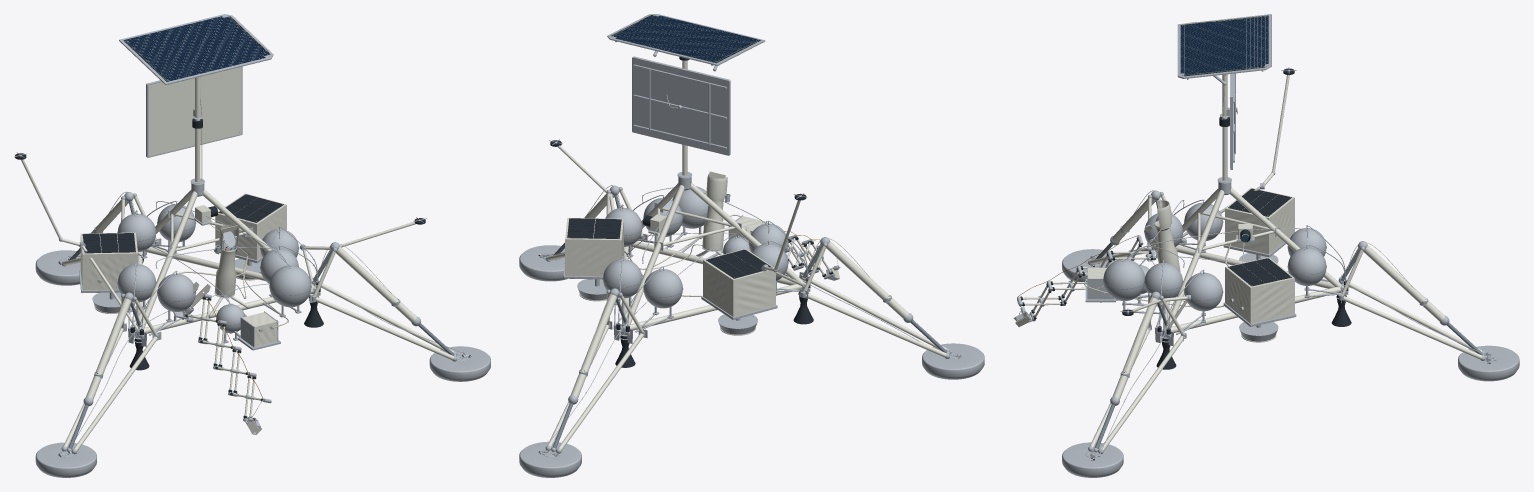
Rendered from surveyor-exterior.glb.
3 views of the same model, side by side, from view 1: azimuth 30°, elevation 25°; view 2: azimuth 150°, elevation 25°; view 3: azimuth 270°, elevation 25° (orthographic). The views are drawn at different scales.
Parts seen in each view (by area): view 1: PLANAR_ARRAY_ANTENNA_Surveyor_white_thermal_coating, LANDING_LEGS_Machined_aluminium (×4), LANDING_LEGS_Surveyor_white_thermal_coating, SOLAR_TOP_Solar_semiconductor, TRUSS_Surveyor_white_thermal_coating, ELECTRONICS_BAYS_Surveyor_white_thermal_coating, ELECTRONICS_BAYS_Surveyor_black_thermal_radiator, SOLAR_TOP_Machined_aluminium, SAMPLER_White_thermal_coating, HELIUM_TANK_Surveyor_aluminium_pressure_vessel, FUEL_TANK_1_Surveyor_aluminium_pressure_vessel, SOLAR_TOP_Solar_semiconductor_alternate (+17 smaller); view 2: PLANAR_ARRAY_ANTENNA_Machined_aluminium, LANDING_LEGS_Machined_aluminium (×4), LANDING_LEGS_Surveyor_white_thermal_coating, ELECTRONICS_BAYS_Surveyor_white_thermal_coating, TRUSS_Surveyor_white_thermal_coating, SOLAR_TOP_Solar_semiconductor, ELECTRONICS_BAYS_Surveyor_black_thermal_radiator, FUEL_TANK_0_Surveyor_aluminium_pressure_vessel, RADAR_ANTENNAS_Machined_aluminium, OXIDIZER_TANK_0_Surveyor_aluminium_pressure_vessel, SOLAR_TOP_Machined_aluminium, SOLAR_TOP_Solar_semiconductor_alternate (+11 smaller); view 3: LANDING_LEGS_Surveyor_white_thermal_coating, LANDING_LEGS_Machined_aluminium (×4), ELECTRONICS_BAYS_Surveyor_white_thermal_coating, SOLAR_TOP_Solar_semiconductor, TRUSS_Surveyor_white_thermal_coating, ELECTRONICS_BAYS_Surveyor_black_thermal_radiator, HELIUM_TANK_Surveyor_aluminium_pressure_vessel, SOLAR_TOP_Machined_aluminium, OXIDIZER_TANK_0_Surveyor_aluminium_pressure_vessel, SAMPLER_White_thermal_coating, FUEL_TANK_2_Surveyor_aluminium_pressure_vessel, OXIDIZER_TANK_2_Surveyor_aluminium_pressure_vessel (+13 smaller).
Part boxes in pixels (x1,y1,x2,y2): PLANAR_ARRAY_ANTENNA_Surveyor_white_thermal_coating: (148,67,241,156); LANDING_LEGS_Machined_aluminium (×4): (35,192,490,477); LANDING_LEGS_Surveyor_white_thermal_coating: (63,196,471,452); SOLAR_TOP_Solar_semiconductor: (125,16,270,81); TRUSS_Surveyor_white_thermal_coating: (136,189,313,333); ELECTRONICS_BAYS_Surveyor_white_thermal_coating: (80,193,286,290); ELECTRONICS_BAYS_Surveyor_black_thermal_radiator: (82,194,283,253); SOLAR_TOP_Machined_aluminium: (119,14,273,84); SAMPLER_White_thermal_coating: (187,281,263,434); HELIUM_TANK_Surveyor_aluminium_pressure_vessel: (269,265,311,307); FUEL_TANK_1_Surveyor_aluminium_pressure_vessel: (157,273,195,311); SOLAR_TOP_Solar_semiconductor_alternate: (123,17,262,78); PLANAR_ARRAY_ANTENNA_Machined_aluminium: (632,56,730,155); LANDING_LEGS_Machined_aluminium (×4): (519,185,984,477); LANDING_LEGS_Surveyor_white_thermal_coating: (539,190,946,452); ELECTRONICS_BAYS_Surveyor_white_thermal_coating: (565,218,775,316); TRUSS_Surveyor_white_thermal_coating: (622,183,803,330); SOLAR_TOP_Solar_semiconductor: (611,15,760,62); ELECTRONICS_BAYS_Surveyor_black_thermal_radiator: (567,218,772,278); FUEL_TANK_0_Surveyor_aluminium_pressure_vessel: (643,269,682,308); RADAR_ANTENNAS_Machined_aluminium: (577,279,757,334); OXIDIZER_TANK_0_Surveyor_aluminium_pressure_vessel: (603,259,642,298); SOLAR_TOP_Machined_aluminium: (607,14,765,65); SOLAR_TOP_Solar_semiconductor_alternate: (616,18,756,63); LANDING_LEGS_Surveyor_white_thermal_coating: (1089,195,1490,459); LANDING_LEGS_Machined_aluminium (×4): (1062,190,1519,477); ELECTRONICS_BAYS_Surveyor_white_thermal_coating: (1225,188,1294,323); SOLAR_TOP_Solar_semiconductor: (1180,16,1268,76); TRUSS_Surveyor_white_thermal_coating: (1163,187,1341,332); ELECTRONICS_BAYS_Surveyor_black_thermal_radiator: (1228,188,1291,286); HELIUM_TANK_Surveyor_aluminium_pressure_vessel: (1103,259,1144,300); SOLAR_TOP_Machined_aluminium: (1177,14,1271,79); OXIDIZER_TANK_0_Surveyor_aluminium_pressure_vessel: (1288,247,1326,285); SAMPLER_White_thermal_coating: (1013,225,1158,326); FUEL_TANK_2_Surveyor_aluminium_pressure_vessel: (1184,272,1222,311); OXIDIZER_TANK_2_Surveyor_aluminium_pressure_vessel: (1144,263,1182,298).
Bounding box in the file's own units: 4.28 × 3.03 × 4.18.
